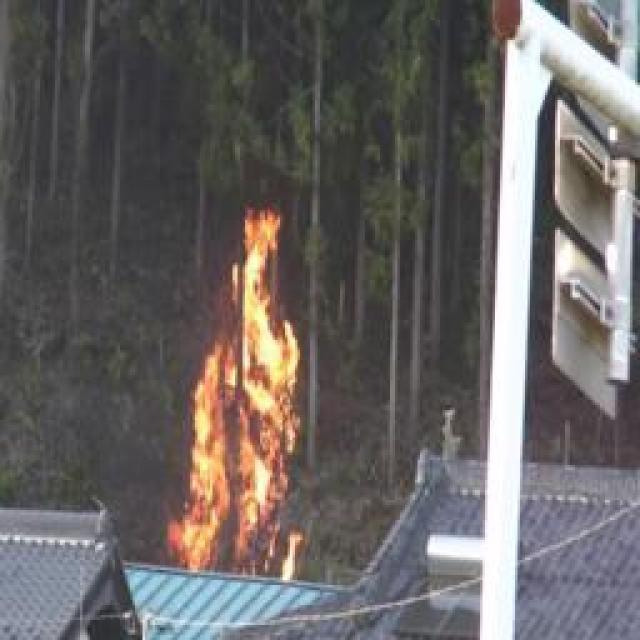Fire: (164, 212, 320, 576)
